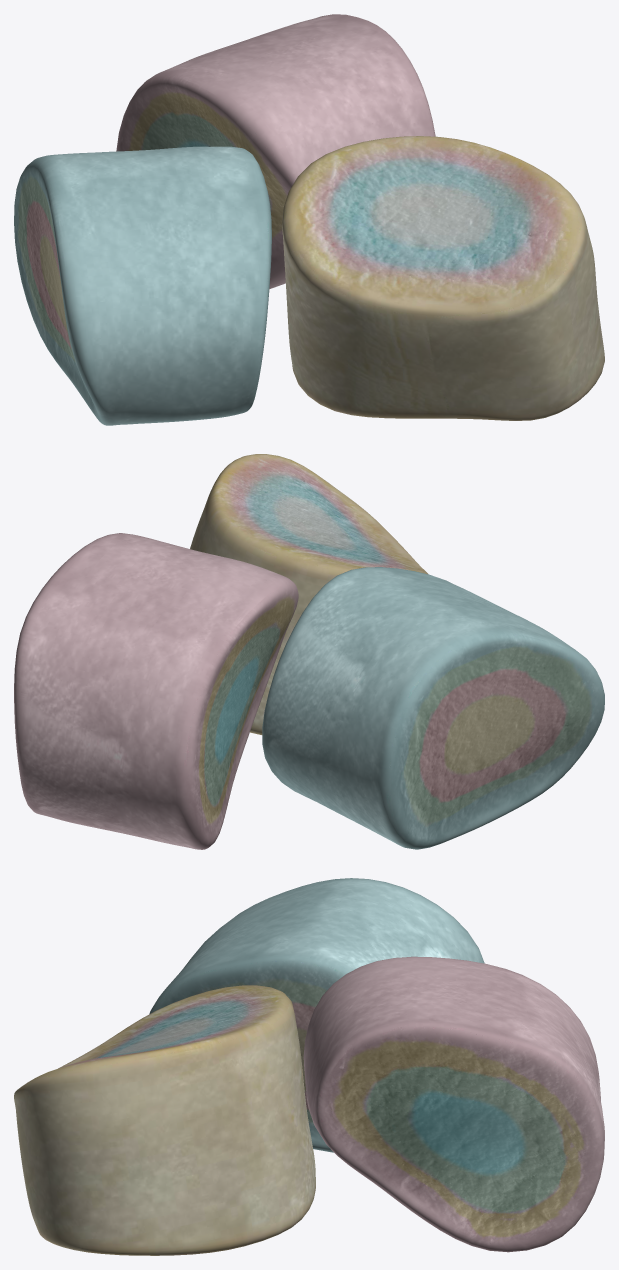
3 renders of one model, top to bottom at view 1: azimuth 30°, elevation 25°; view 2: azimuth 150°, elevation 25°; view 3: azimuth 270°, elevation 25°, orthographic. The views are drawn at different scales.
Parts seen in each view (by area): view 1: MarshmallowMidPoly, MarshmallowMidPoly.001, MarshmallowMidPoly.002; view 2: MarshmallowMidPoly.001, MarshmallowMidPoly.002, MarshmallowMidPoly; view 3: MarshmallowMidPoly.002, MarshmallowMidPoly, MarshmallowMidPoly.001.
Part boxes in pixels (bbox=[...]): MarshmallowMidPoly: bbox=[282, 136, 604, 420]; MarshmallowMidPoly.001: bbox=[14, 146, 271, 425]; MarshmallowMidPoly.002: bbox=[116, 14, 435, 289]; MarshmallowMidPoly.001: bbox=[262, 567, 604, 849]; MarshmallowMidPoly.002: bbox=[14, 533, 298, 849]; MarshmallowMidPoly: bbox=[190, 454, 427, 734]; MarshmallowMidPoly.002: bbox=[303, 956, 604, 1252]; MarshmallowMidPoly: bbox=[14, 985, 315, 1255]; MarshmallowMidPoly.001: bbox=[149, 878, 484, 1152].
Bounding box in the file's own units: 3.08 × 1.55 × 3.42.
3 materials, 3 textured.
